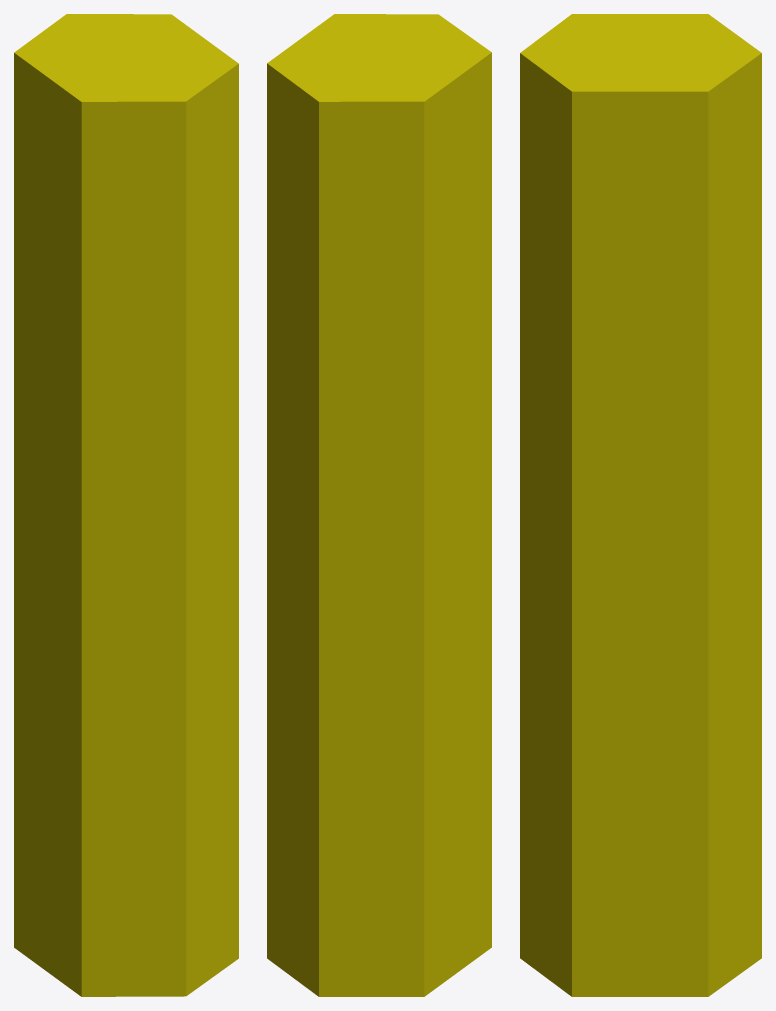
3 renders of one model, left to right at view 1: azimuth 30°, elevation 25°; view 2: azimuth 150°, elevation 25°; view 3: azimuth 270°, elevation 25°, orthographic.
Visible parts, largest first — view 1: parta100; view 2: parta100; view 3: parta100.
Part boxes in pixels (bbox=[...]): parta100: bbox=[14, 14, 238, 996]; parta100: bbox=[267, 14, 491, 996]; parta100: bbox=[520, 14, 761, 996].
Size of the model in its own units: 0.5006 by 0.6587 by 2.72.
